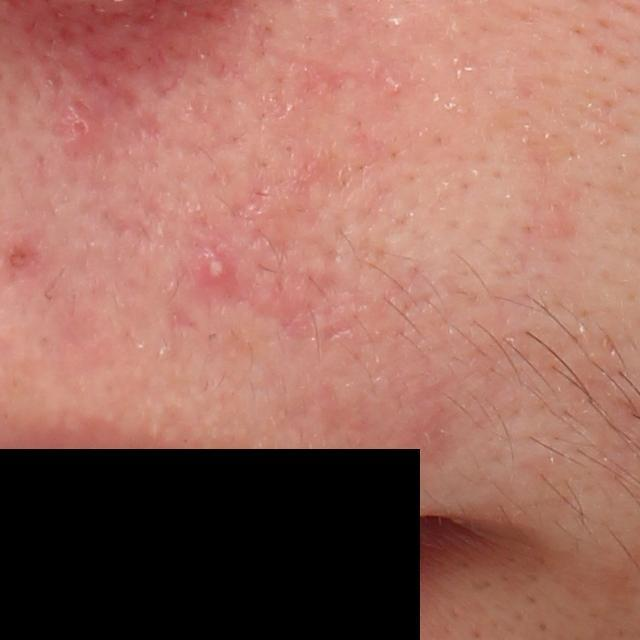pustule: (196, 247, 243, 287)
